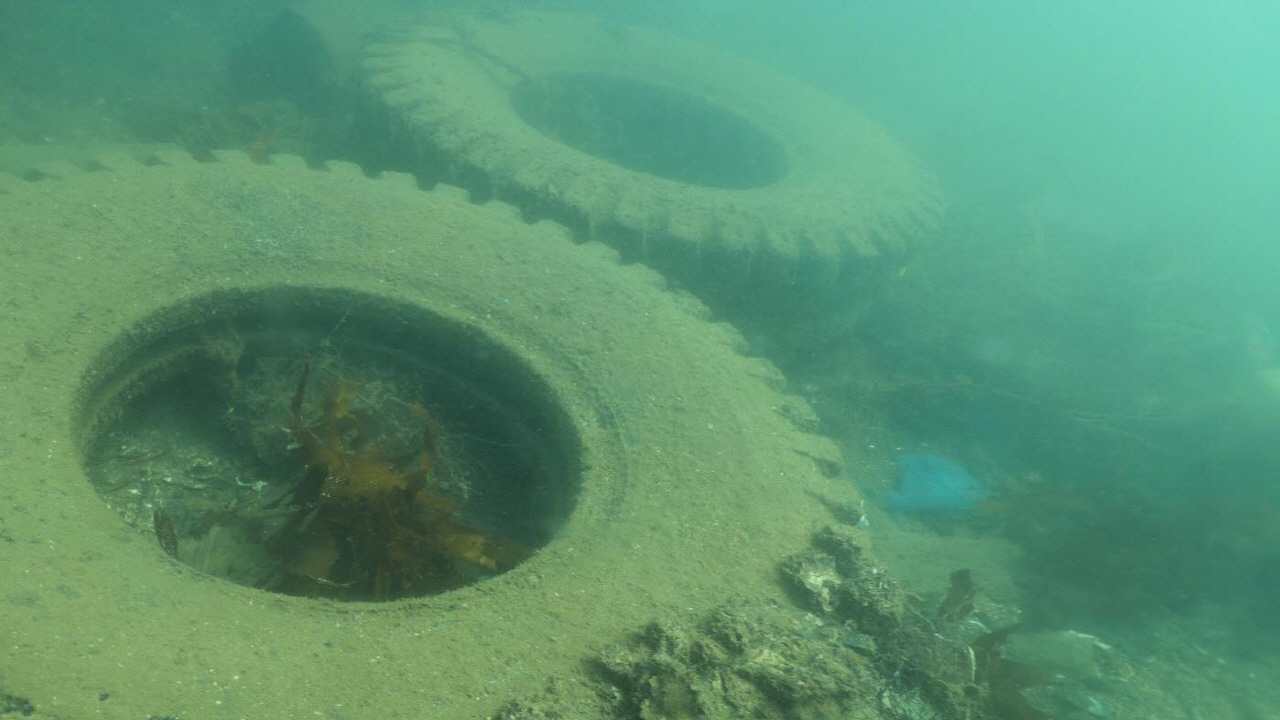tire: (0, 145, 867, 715), (359, 12, 947, 352)
